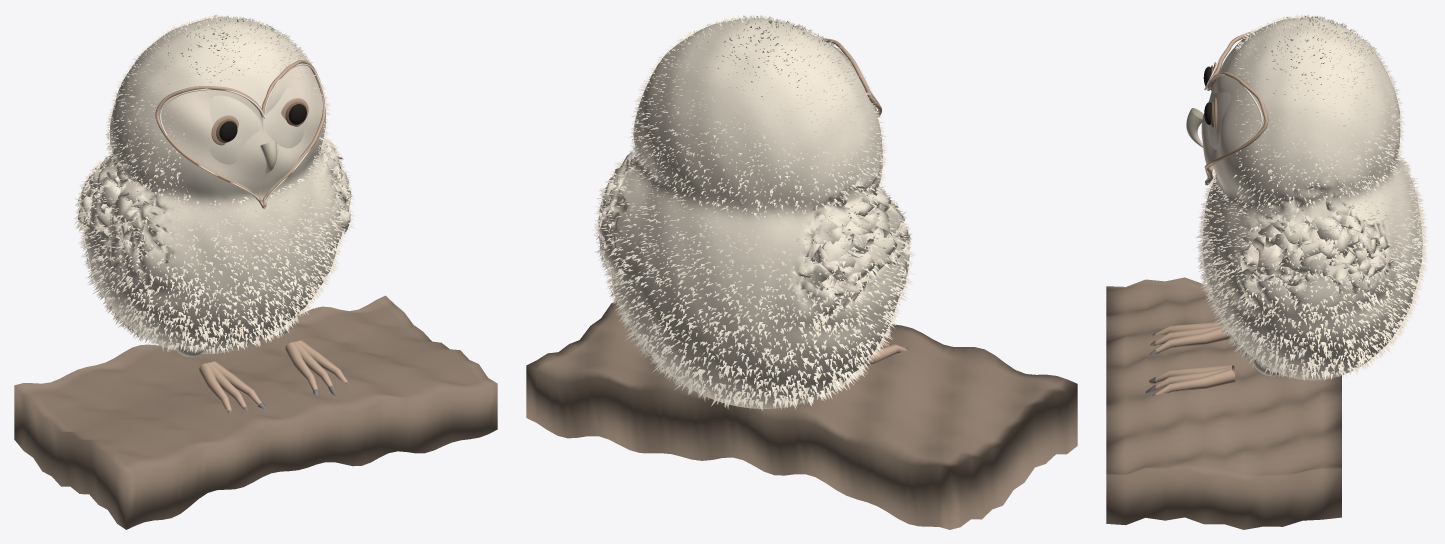
File: owl172_run80_wing_eye_hollow_ART_PENDING.glb
3 views of the same model, side by side, from view 1: azimuth 30°, elevation 25°; view 2: azimuth 150°, elevation 25°; view 3: azimuth 270°, elevation 25° (orthographic). The views are drawn at different scales.
Parts seen in each view (by area): view 1: solid eroded mature eucalyptus hollow ledge, continuous sculpted juvenile skin (research), sculpted double-lobed heart facial disk, curved second-down filament batch 4, curved second-down filament batch 3, curved second-down filament batch 0, curved second-down filament batch 1, curved second-down filament batch 2, warm feather edge of facial disc, thin down edge 0; view 2: continuous sculpted juvenile skin (research), solid eroded mature eucalyptus hollow ledge, curved second-down filament batch 1, curved second-down filament batch 4, curved second-down filament batch 0, curved second-down filament batch 2, curved second-down filament batch 3; view 3: continuous sculpted juvenile skin (research), solid eroded mature eucalyptus hollow ledge, curved second-down filament batch 2, curved second-down filament batch 4, curved second-down filament batch 0, curved second-down filament batch 3, curved second-down filament batch 1, sculpted double-lobed heart facial disk, warm feather edge of facial disc, short juvenile toe 1_2, short juvenile toe -1_2, short juvenile toe 1_0 (+4 smaller).
Boxes of the visible parts, x1,y1,x2,y2 form: solid eroded mature eucalyptus hollow ledge: [14, 295, 497, 529]; continuous sculpted juvenile skin (research): [78, 17, 350, 353]; sculpted double-lobed heart facial disk: [159, 61, 322, 200]; curved second-down filament batch 4: [75, 15, 354, 353]; curved second-down filament batch 3: [74, 14, 352, 354]; curved second-down filament batch 0: [73, 15, 355, 353]; curved second-down filament batch 1: [74, 15, 354, 352]; curved second-down filament batch 2: [75, 15, 355, 352]; warm feather edge of facial disc: [155, 60, 325, 208]; thin down edge 0: [159, 63, 325, 209]; continuous sculpted juvenile skin (research): [597, 18, 911, 408]; solid eroded mature eucalyptus hollow ledge: [526, 301, 1077, 529]; curved second-down filament batch 1: [594, 15, 913, 409]; curved second-down filament batch 4: [595, 16, 913, 408]; curved second-down filament batch 0: [592, 15, 916, 408]; curved second-down filament batch 2: [593, 14, 915, 406]; curved second-down filament batch 3: [594, 15, 915, 410]; continuous sculpted juvenile skin (research): [1202, 18, 1422, 380]; solid eroded mature eucalyptus hollow ledge: [1106, 277, 1341, 529]; curved second-down filament batch 2: [1196, 15, 1428, 379]; curved second-down filament batch 4: [1197, 14, 1427, 379]; curved second-down filament batch 0: [1196, 14, 1428, 380]; curved second-down filament batch 3: [1196, 14, 1427, 380]; curved second-down filament batch 1: [1195, 14, 1427, 378]; sculpted double-lobed heart facial disk: [1201, 35, 1269, 169]; warm feather edge of facial disc: [1204, 31, 1268, 185]; short juvenile toe 1_2: [1155, 368, 1235, 394]; short juvenile toe -1_2: [1155, 327, 1232, 352]; short juvenile toe 1_0: [1155, 365, 1235, 382].
Bounding box in the file's own units: 2.24 × 2.29 × 1.61.
